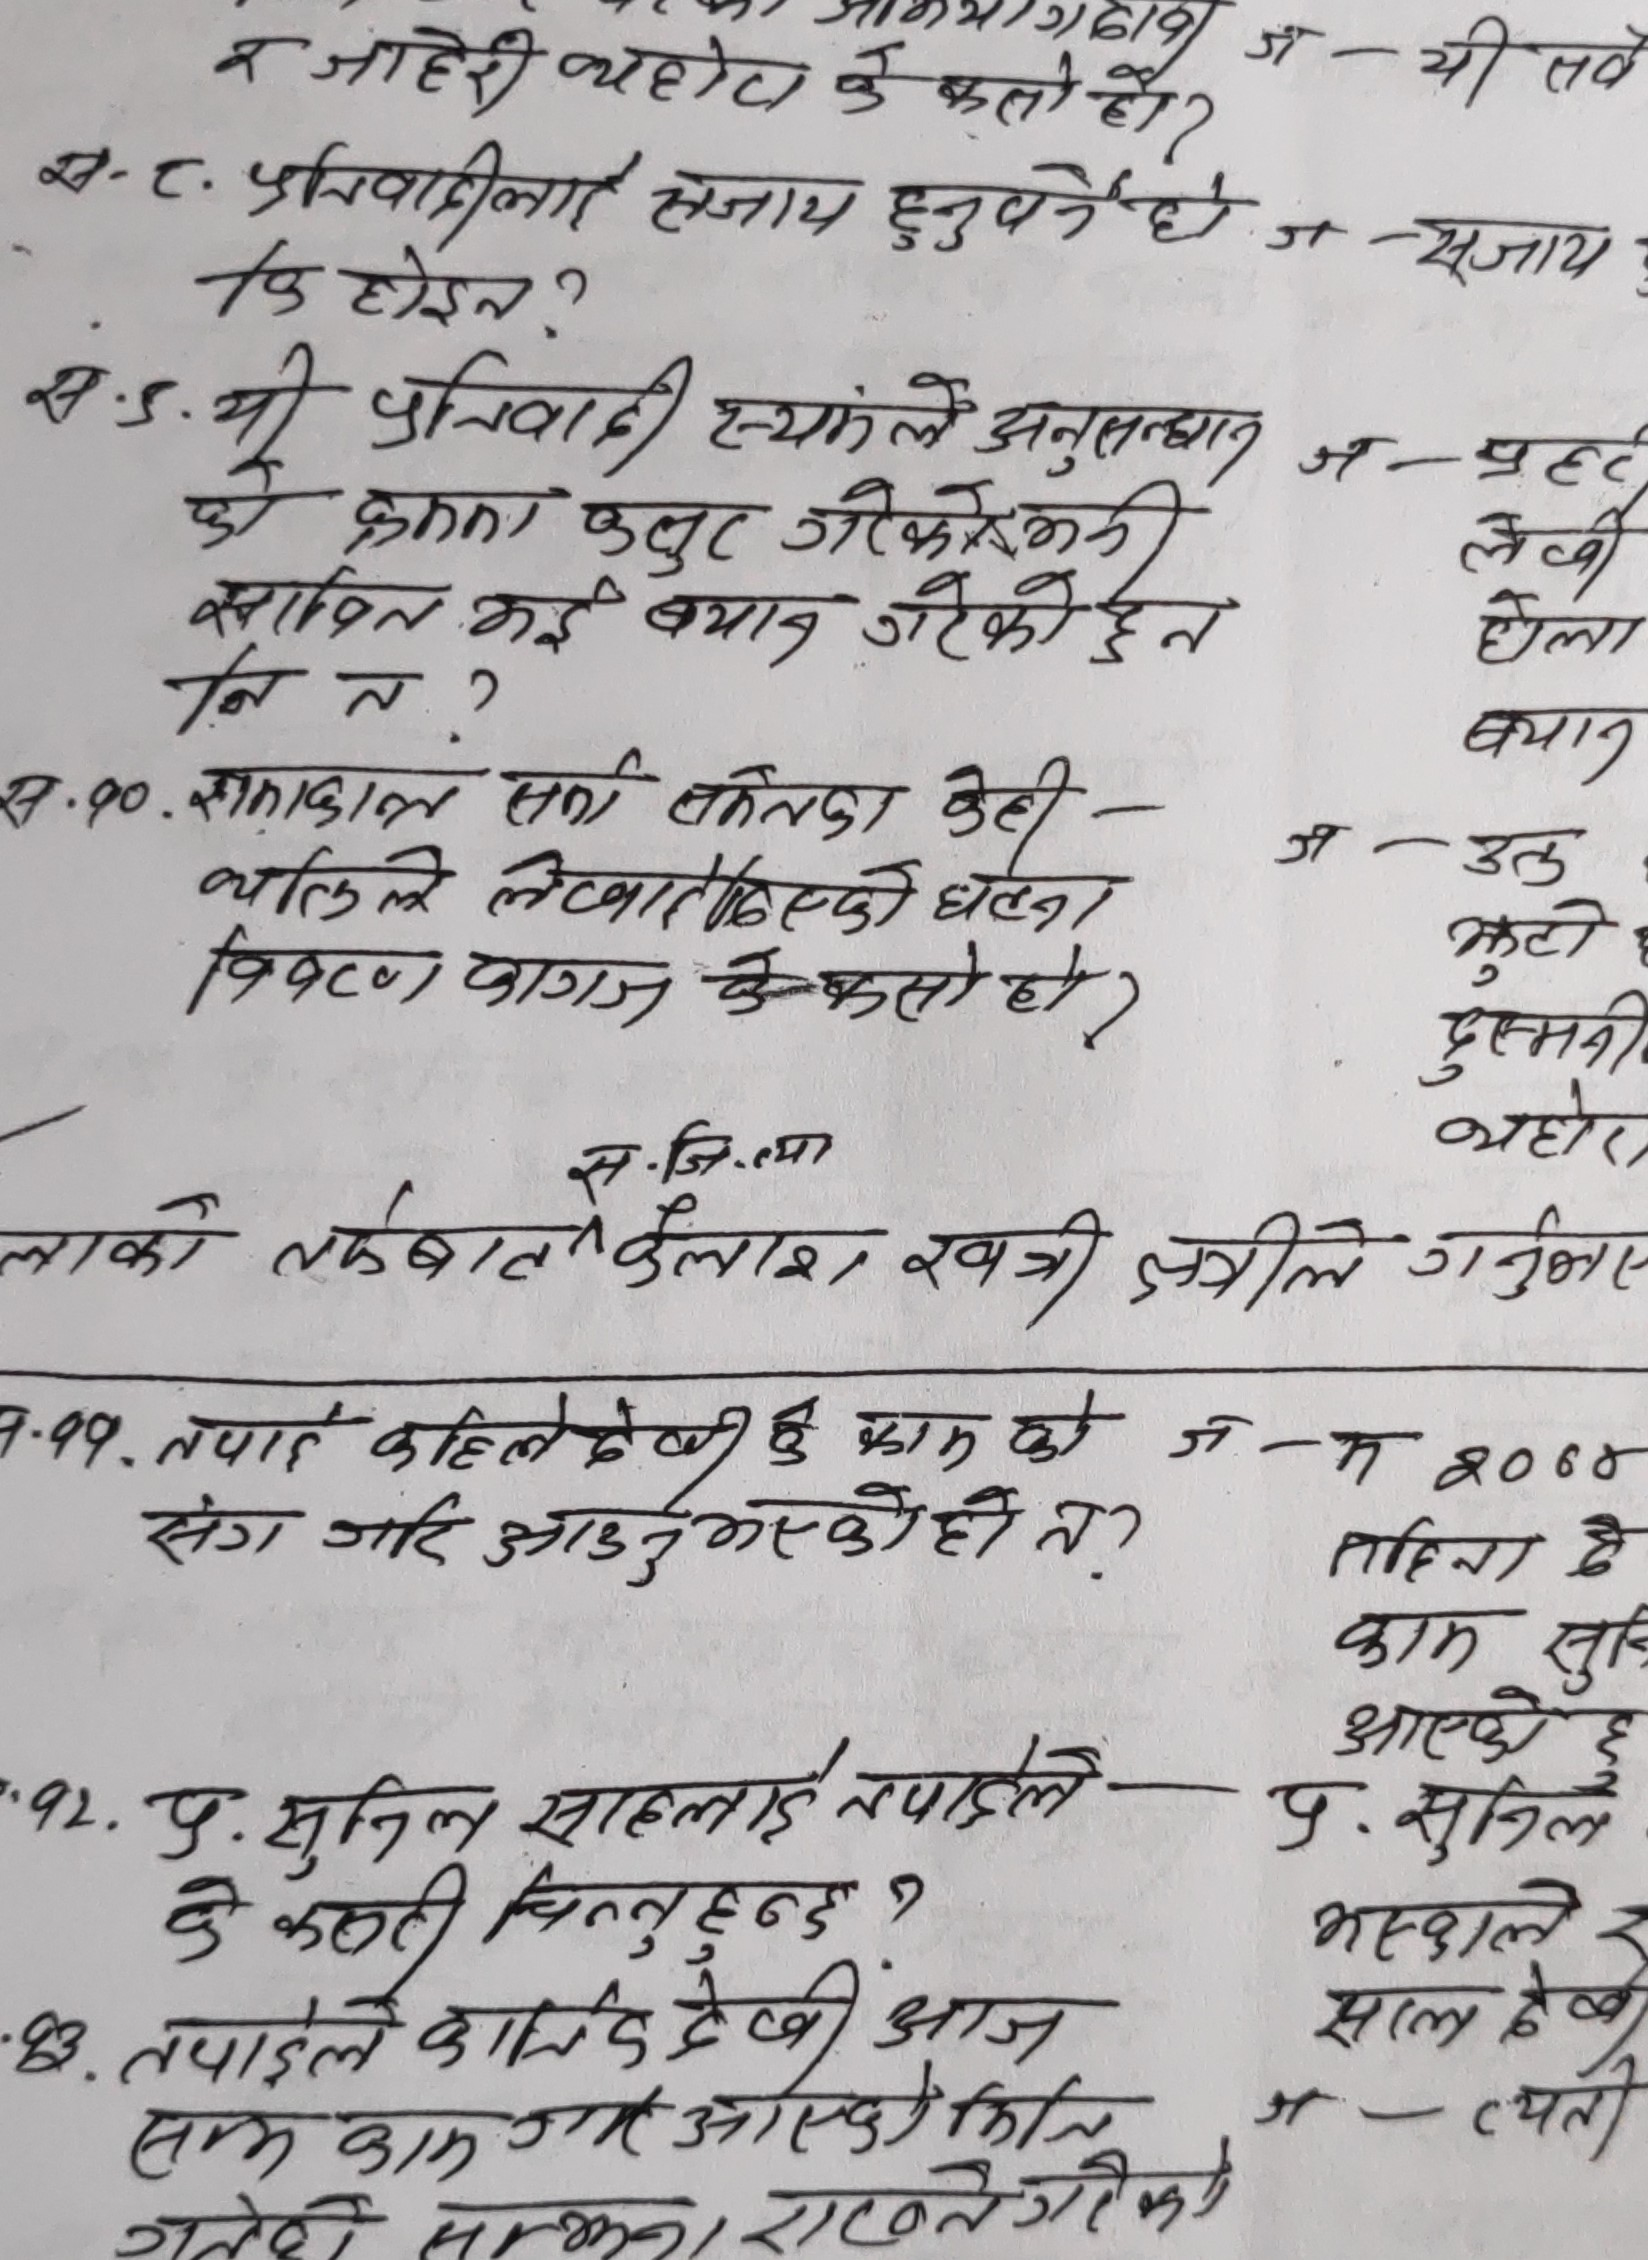text: (484, 1476, 928, 1597), (232, 130, 635, 240), (484, 840, 920, 935), (514, 1735, 835, 1863), (355, 342, 702, 460), (779, 470, 1199, 567), (365, 1390, 755, 1490), (483, 1863, 844, 1963), (269, 1176, 565, 1297), (253, 1765, 514, 1883), (116, 1983, 390, 2093), (728, 2149, 1002, 2260), (841, 1727, 1099, 1841), (176, 749, 479, 842), (676, 2056, 939, 2163), (706, 360, 976, 463), (1129, 1211, 1374, 1323), (983, 383, 1258, 483), (883, 149, 1114, 267), (1309, 1865, 1581, 1965), (613, 1193, 890, 1290), (168, 933, 449, 1026), (1399, 990, 1648, 1093), (184, 833, 462, 926), (662, 742, 909, 846), (895, 1200, 1114, 1316), (302, 16, 542, 119), (1325, 1679, 1566, 1783), (402, 1983, 658, 2079), (265, 1863, 476, 1979), (1413, 1204, 1648, 1305), (855, 570, 1088, 670), (1014, 2142, 1239, 2246), (553, 37, 802, 126), (662, 1960, 869, 2065), (646, 156, 858, 256), (453, 942, 683, 1033), (183, 567, 442, 646), (1392, 1772, 1615, 1863), (1472, 2053, 1648, 2163), (813, 926, 990, 1035), (1325, 1505, 1550, 1590), (872, 1976, 1092, 2060), (335, 474, 549, 560), (116, 2097, 305, 2193), (1455, 697, 1648, 790), (339, 240, 539, 330), (1425, 1097, 1648, 1176), (314, 2093, 490, 2190), (1462, 411, 1648, 500), (1413, 211, 1611, 293), (1450, 500, 1648, 583), (1429, 886, 1611, 976), (1306, 1976, 1488, 2065), (1425, 1427, 1644, 1500), (635, 583, 835, 663), (1469, 586, 1648, 674), (132, 1486, 302, 1576), (202, 346, 342, 453), (949, 2063, 1121, 2149), (572, 493, 749, 576), (932, 44, 1083, 140), (932, 860, 1125, 935), (935, 753, 1079, 853), (453, 567, 620, 653), (490, 2083, 662, 2165), (154, 1404, 325, 1486), (314, 1497, 479, 1579), (491, 749, 649, 833), (839, 1386, 990, 1472), (1092, 586, 1225, 681), (172, 456, 295, 553), (1332, 1597, 1488, 1672), (999, 1365, 1114, 1465), (165, 646, 291, 735), (125, 1765, 228, 1872), (1413, 11, 1518, 105), (209, 233, 314, 323), (153, 1870, 242, 1970), (1002, 942, 1099, 1030), (925, 1483, 1014, 1576), (1455, 819, 1580, 886), (314, 656, 419, 730), (825, 33, 906, 126), (1079, 53, 1172, 133), (1021, 1490, 1106, 1563), (1136, 182, 1202, 260), (205, 26, 276, 93)
